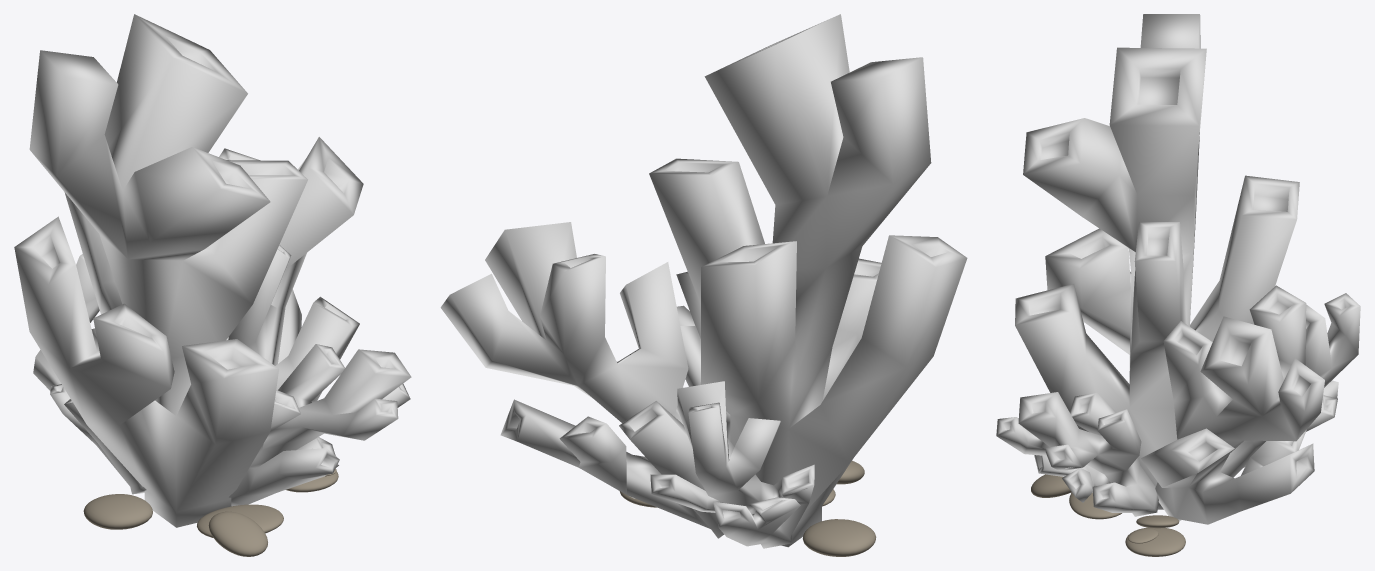
Rendered from Coral_pink_blue.fbx.
The picture shows the model from 3 angles, left to right: view 1: azimuth 30°, elevation 25°; view 2: azimuth 150°, elevation 25°; view 3: azimuth 270°, elevation 25°; orthographic projection. The views are drawn at different scales.
Parts seen in each view (by area): view 1: Coral 1, Coral 3, Coral 2, Coral4, Stone 3, Stone 2, Stone 1, Stone 4; view 2: Coral 1, Coral 2, Coral4, Stone 3, Coral 3; view 3: Coral 1, Coral 2, Coral 3, Coral4, Stone 4, Stone 2, Stone 1, Stone 5.
Part boxes in pixels (box(x1,y1,x2,y2)): Coral 1: box(14, 14, 307, 527); Coral 3: box(229, 344, 411, 506); Coral 2: box(219, 137, 363, 402); Coral4: box(33, 254, 146, 494); Stone 3: box(83, 494, 152, 529); Stone 2: box(208, 511, 267, 556); Stone 1: box(197, 504, 283, 537); Stone 4: box(286, 471, 338, 492); Coral 1: box(649, 14, 967, 547); Coral 2: box(440, 222, 723, 538); Coral4: box(650, 381, 814, 548); Stone 3: box(802, 519, 876, 556); Coral 3: box(676, 271, 730, 440); Coral 1: box(1015, 14, 1299, 509); Coral 2: box(1141, 285, 1324, 524); Coral 3: box(996, 392, 1158, 516); Coral4: box(1243, 293, 1360, 467); Stone 4: box(1125, 527, 1185, 556); Stone 2: box(1031, 474, 1071, 497); Stone 1: box(1069, 492, 1121, 519); Stone 5: box(1136, 515, 1179, 528).
Bounding box in the file's own units: 1453 × 1702 × 1272.
